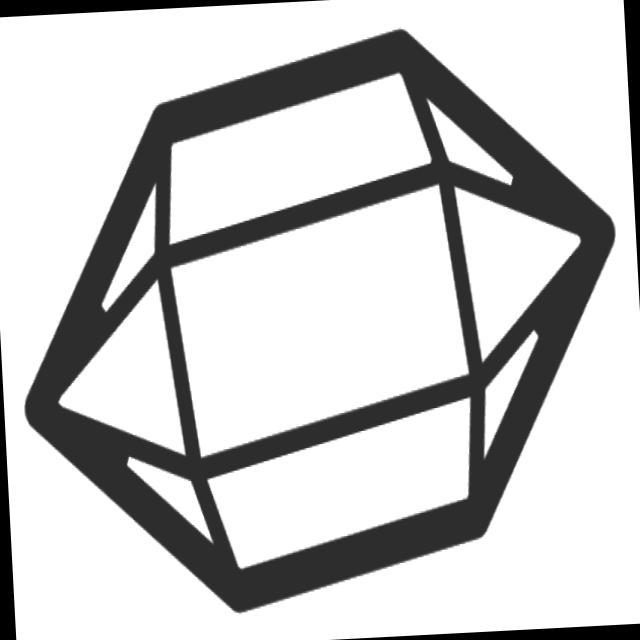crystal: (1, 4, 640, 640)
